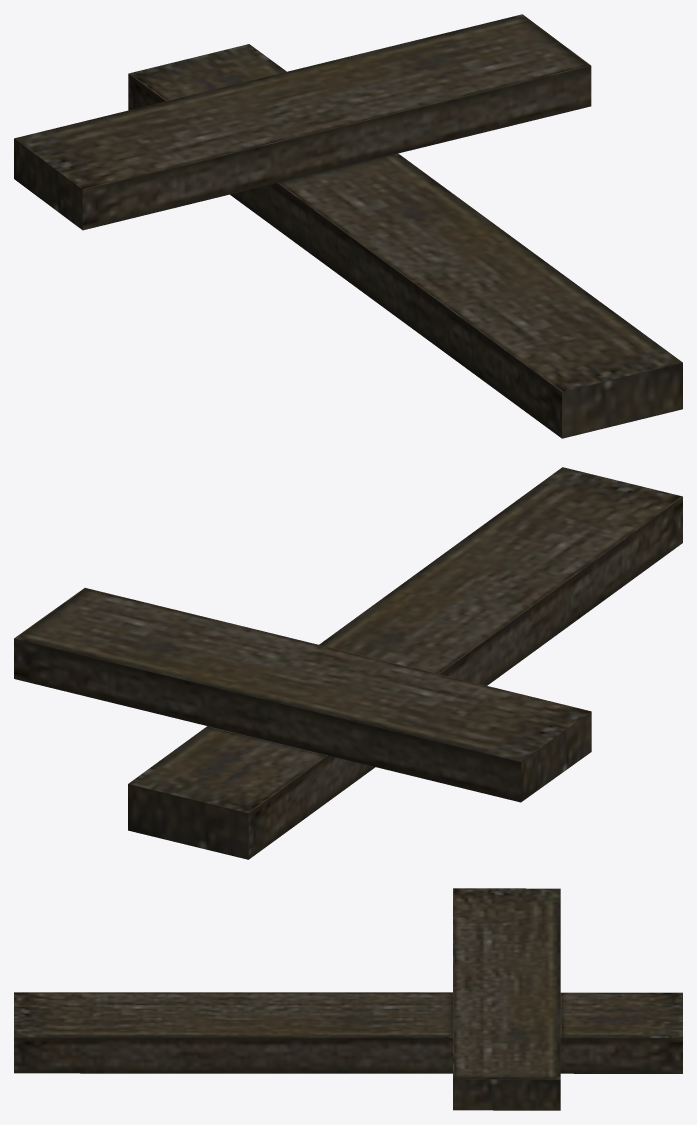
Rendered from cross_1.fbx.
3 views of the same model, one above another, from view 1: azimuth 30°, elevation 25°; view 2: azimuth 150°, elevation 25°; view 3: azimuth 270°, elevation 25° (orthographic). The views are drawn at different scales.
Visible parts, largest first — view 1: cross_1; view 2: cross_1; view 3: cross_1.
Boxes of the visible parts, x1,y1,x2,y2 form: cross_1: (14,14,682,438); cross_1: (14,467,682,859); cross_1: (14,888,682,1110).
Bounding box in the file's own units: 0.263 × 0.043 × 0.3885.
1 material, 1 textured.
